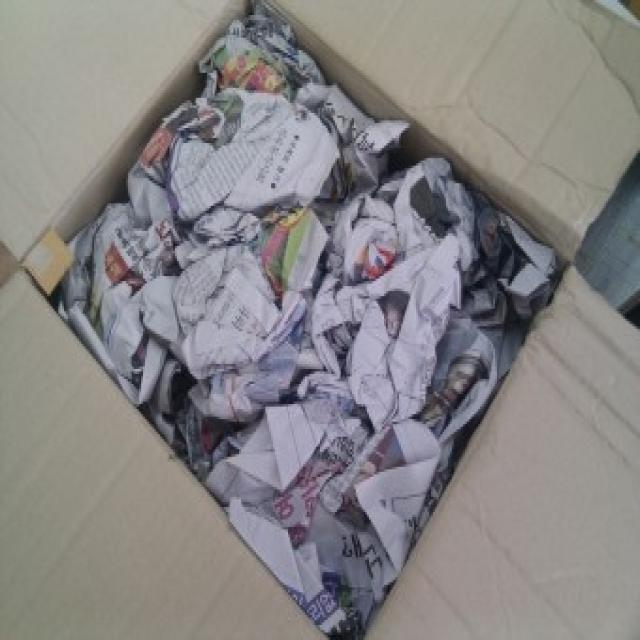Newspaper: (62, 1, 565, 640)
